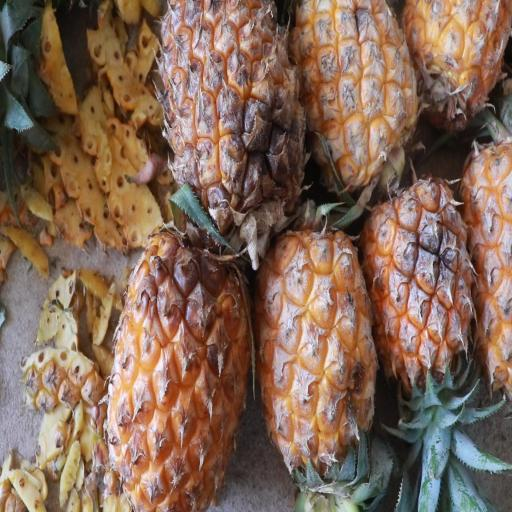Pineapple - v8 v1: (103, 221, 251, 512), (156, 1, 304, 246), (248, 215, 377, 480), (290, 0, 420, 205), (366, 175, 489, 387), (404, 0, 512, 148)
